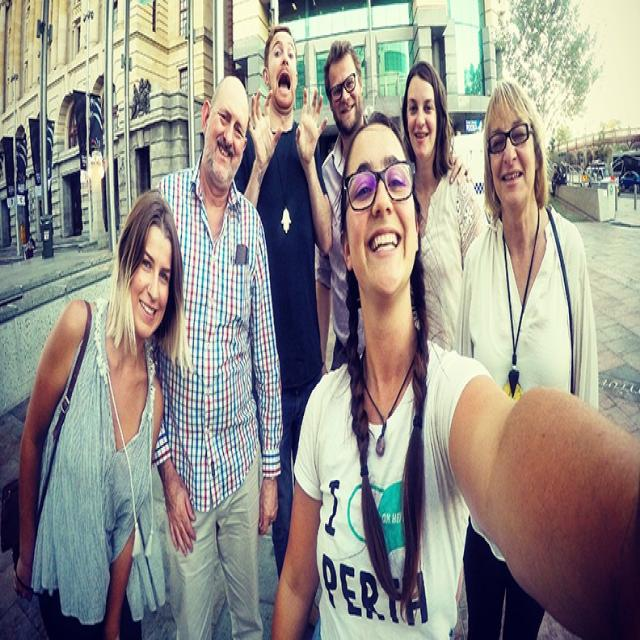body: (264, 105, 639, 639), (0, 176, 192, 638), (452, 77, 600, 640), (148, 71, 284, 640), (232, 24, 331, 634), (310, 35, 474, 378), (399, 58, 484, 358), (546, 157, 570, 201), (20, 229, 38, 262)
